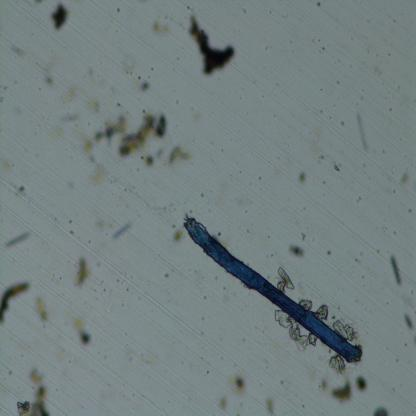Background material: (102, 107, 172, 163), (187, 14, 234, 77), (13, 362, 54, 416), (0, 276, 29, 330), (289, 320, 318, 352), (79, 125, 104, 159), (328, 377, 356, 406), (72, 310, 93, 348), (388, 250, 405, 294), (272, 264, 296, 293), (6, 227, 35, 249), (73, 254, 94, 284), (48, 4, 70, 31), (353, 108, 367, 148), (36, 290, 52, 324), (334, 318, 361, 338), (167, 144, 192, 165), (325, 356, 345, 377), (8, 39, 28, 58), (258, 395, 276, 416), (314, 303, 334, 321), (92, 164, 107, 187), (61, 105, 82, 121), (83, 98, 102, 115), (353, 370, 367, 393), (274, 309, 290, 328), (368, 404, 393, 416), (135, 75, 150, 94), (169, 226, 186, 242), (235, 372, 247, 392), (115, 224, 130, 238), (298, 297, 314, 310), (400, 171, 413, 185), (216, 399, 230, 412), (43, 67, 55, 82), (402, 308, 411, 328), (289, 245, 305, 256), (154, 22, 165, 33), (16, 183, 26, 195), (300, 170, 308, 184), (322, 248, 334, 256), (334, 167, 342, 176), (216, 230, 221, 236), (301, 233, 305, 240), (199, 192, 203, 198)
Cotton: (184, 212, 372, 366)
